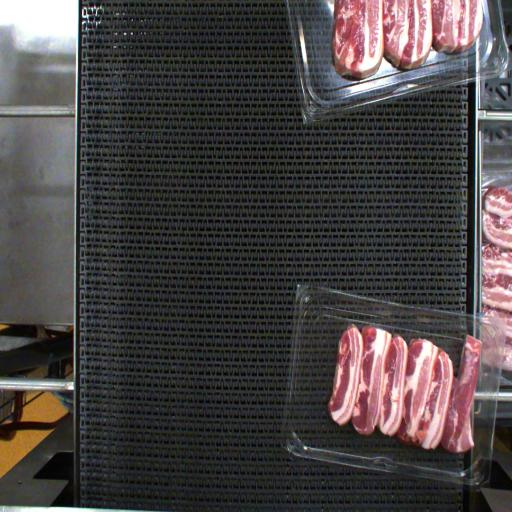twisted-meat: (451, 330, 478, 456)
